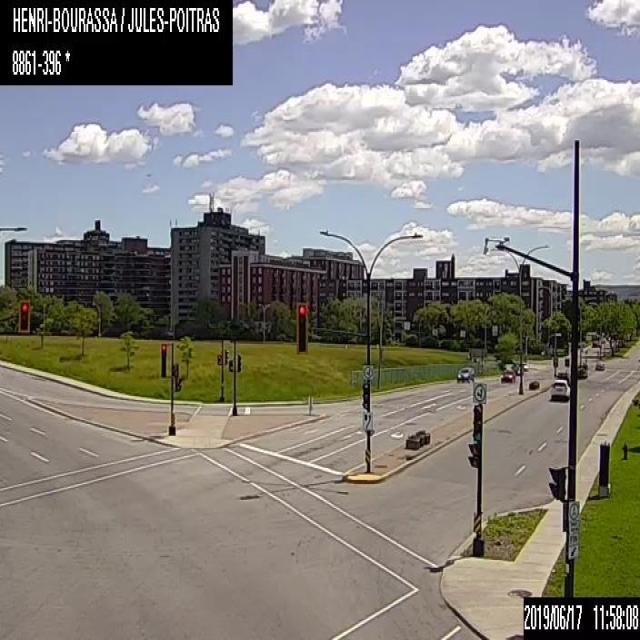vehicle: (550, 379, 570, 402), (454, 365, 474, 382), (553, 370, 571, 385), (498, 367, 515, 382), (577, 364, 587, 377), (512, 363, 522, 374), (594, 360, 604, 370)
